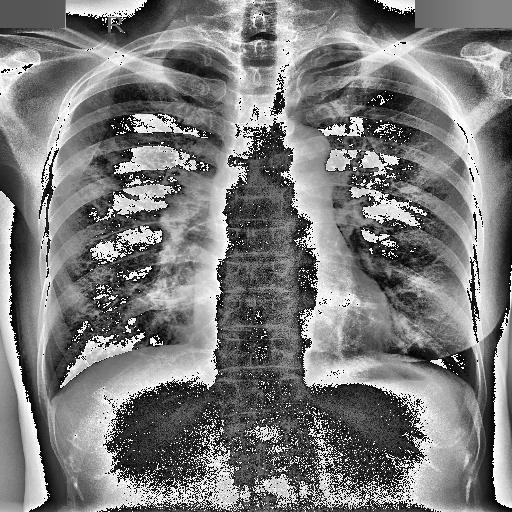11- Pleural thickening: (76, 39, 200, 97)
13- Pulmonary fibrosis: (81, 136, 135, 218)
7- Lung Opacity: (68, 136, 132, 218), (79, 147, 139, 224)
